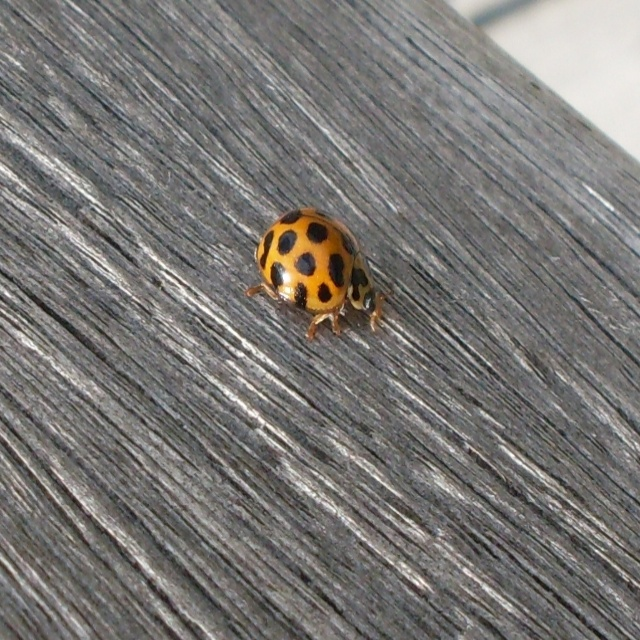Ladybug: (246, 206, 388, 343)
